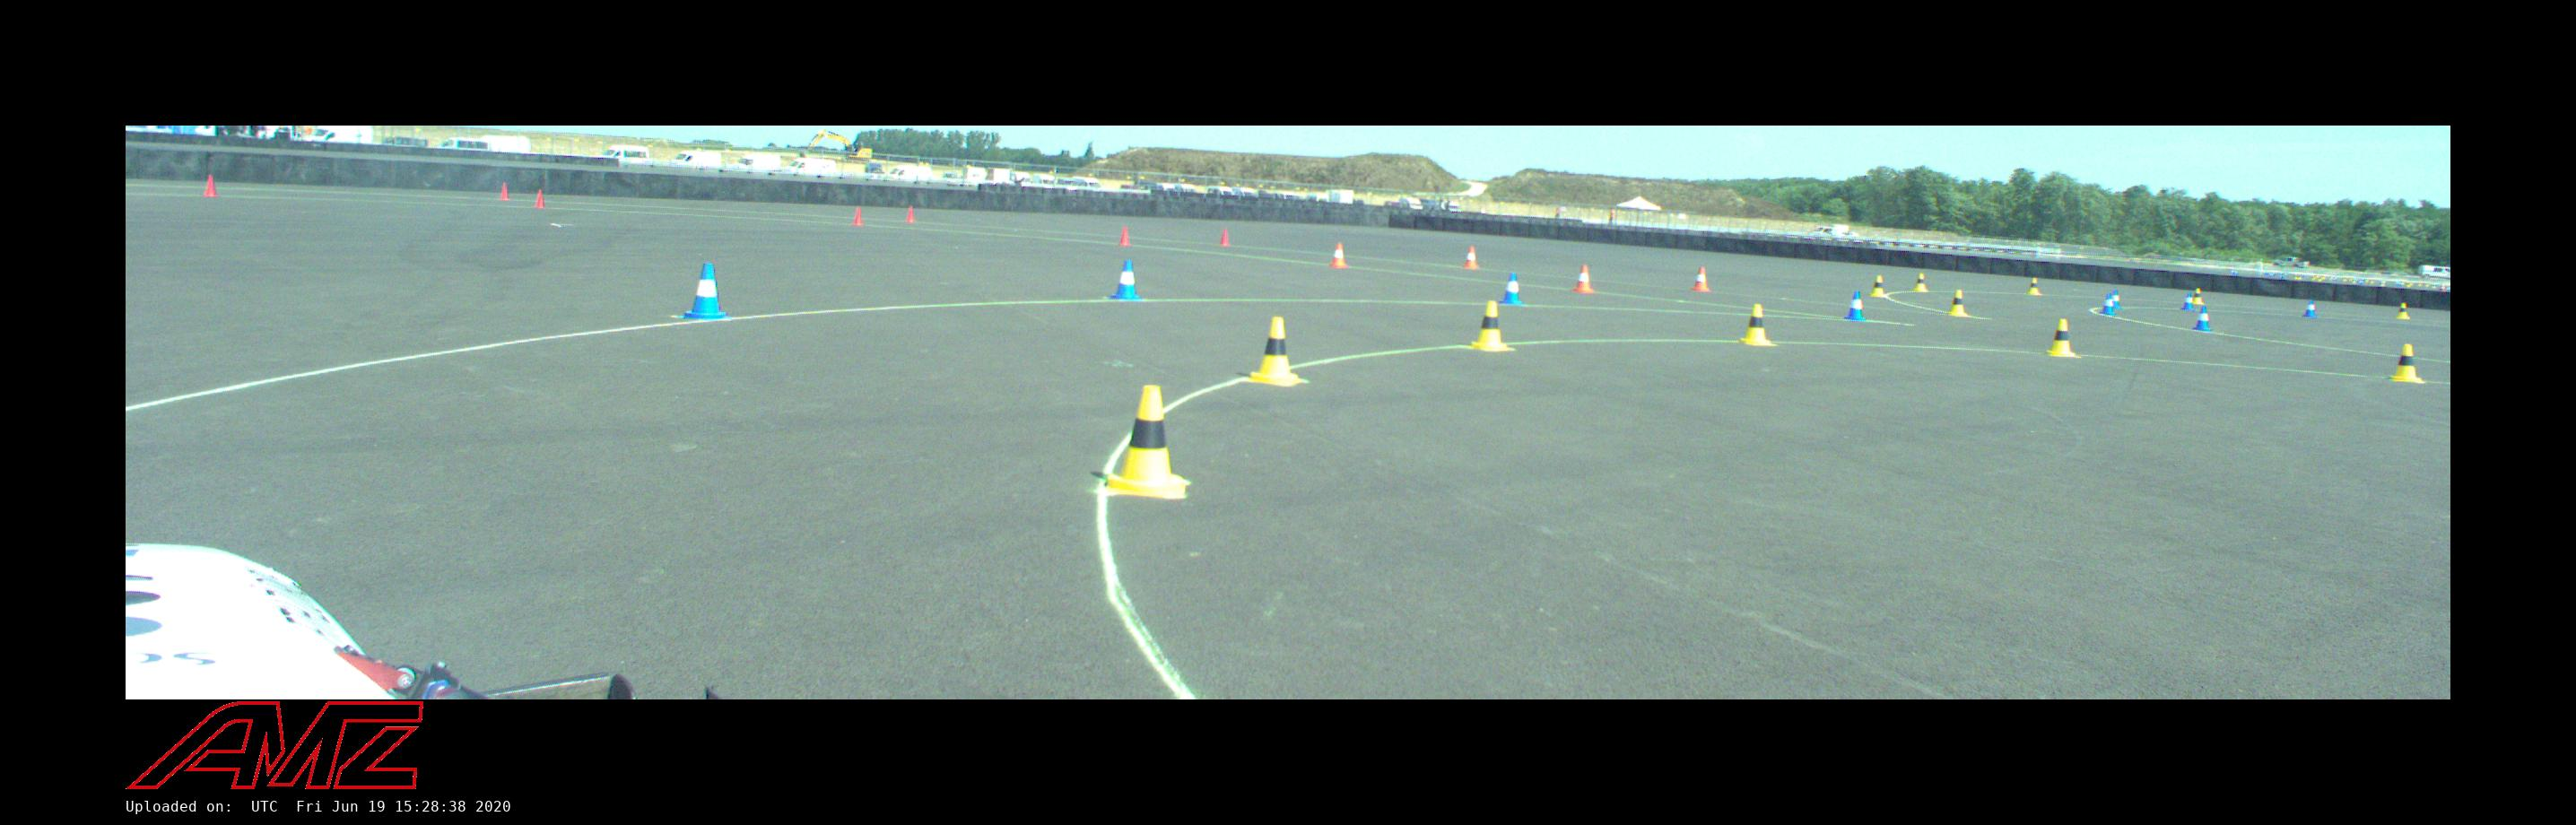blue_cone: (677, 263, 729, 319), (1107, 260, 1140, 301), (1500, 273, 1523, 306), (1843, 291, 1866, 320), (2192, 306, 2213, 332), (2100, 293, 2116, 316), (2106, 289, 2123, 311), (2302, 299, 2318, 319), (2180, 291, 2196, 311)
orange_cone: (1574, 266, 1595, 293), (1690, 266, 1712, 291), (1329, 243, 1349, 268), (1460, 247, 1480, 270)
yellow_cone: (1104, 385, 1184, 496), (1245, 317, 1301, 386), (1469, 301, 1510, 350), (1740, 304, 1774, 345), (2389, 345, 2423, 381), (2049, 319, 2075, 357), (1945, 289, 1968, 316), (1870, 276, 1889, 297), (1912, 273, 1929, 291), (2026, 278, 2042, 296), (2395, 302, 2412, 319), (2190, 288, 2205, 304)
